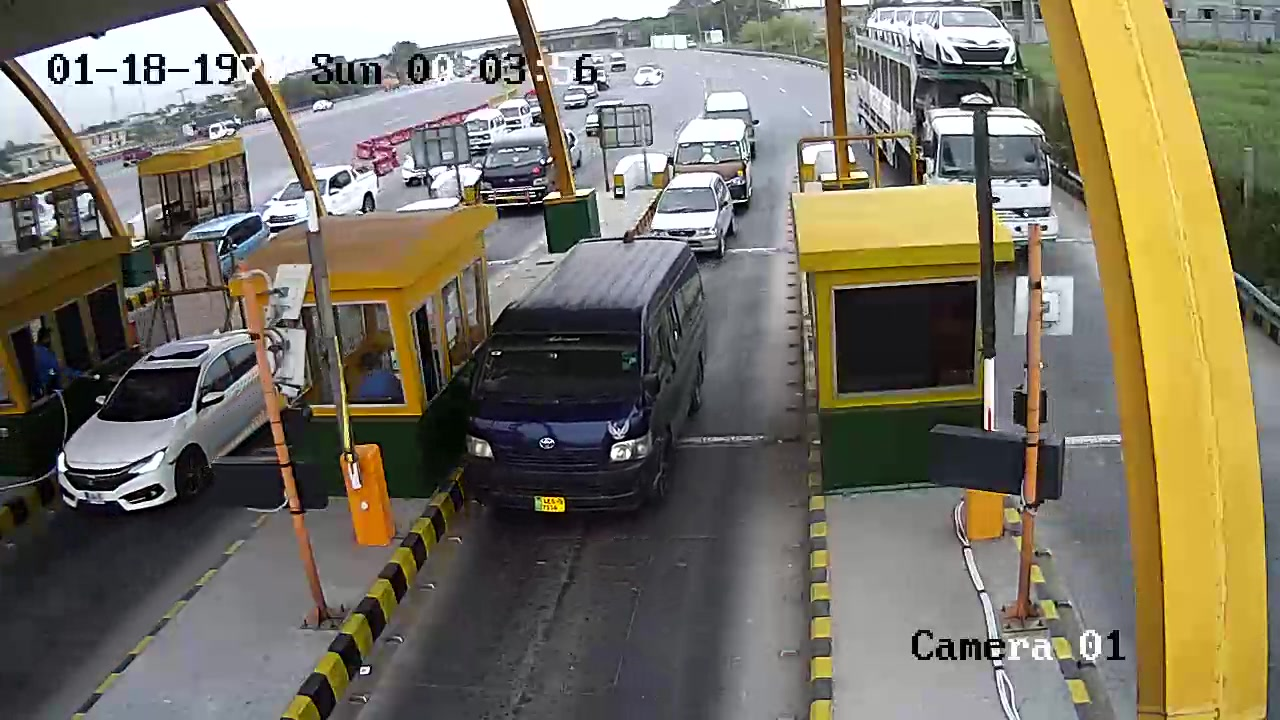F3: (452, 234, 714, 526)
